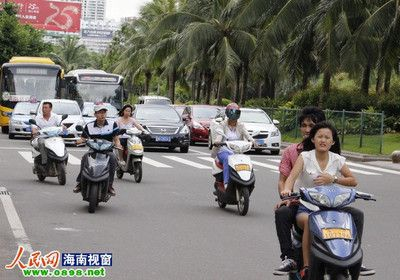non-vehicle: (276, 170, 375, 278), (72, 123, 121, 213), (209, 137, 258, 219), (31, 119, 76, 187), (116, 124, 150, 185)
